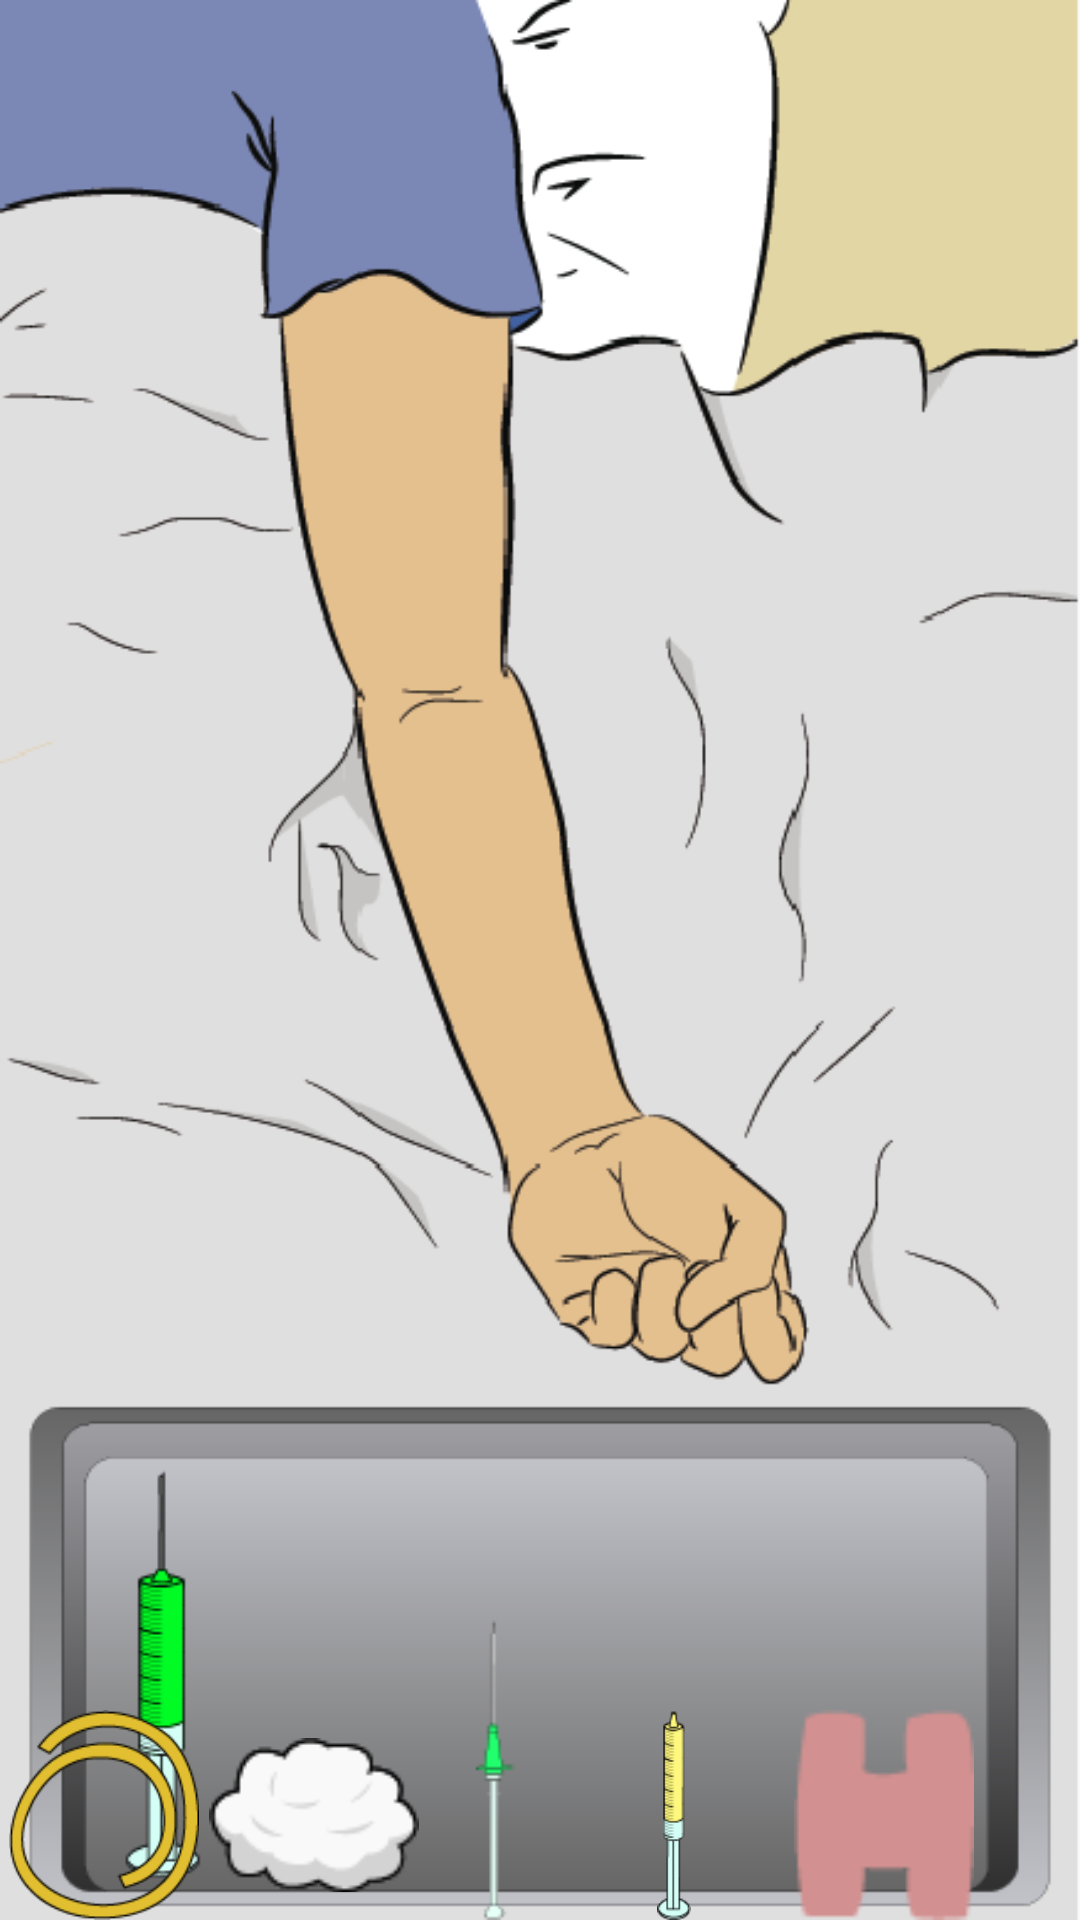

Screen size 1080px x 1920px. Icon name, then its center in pixels as (x=x, y=y):
adesivo: (x=884, y=1815)
algodao: (x=314, y=1829)
garrote: (x=104, y=1815)
